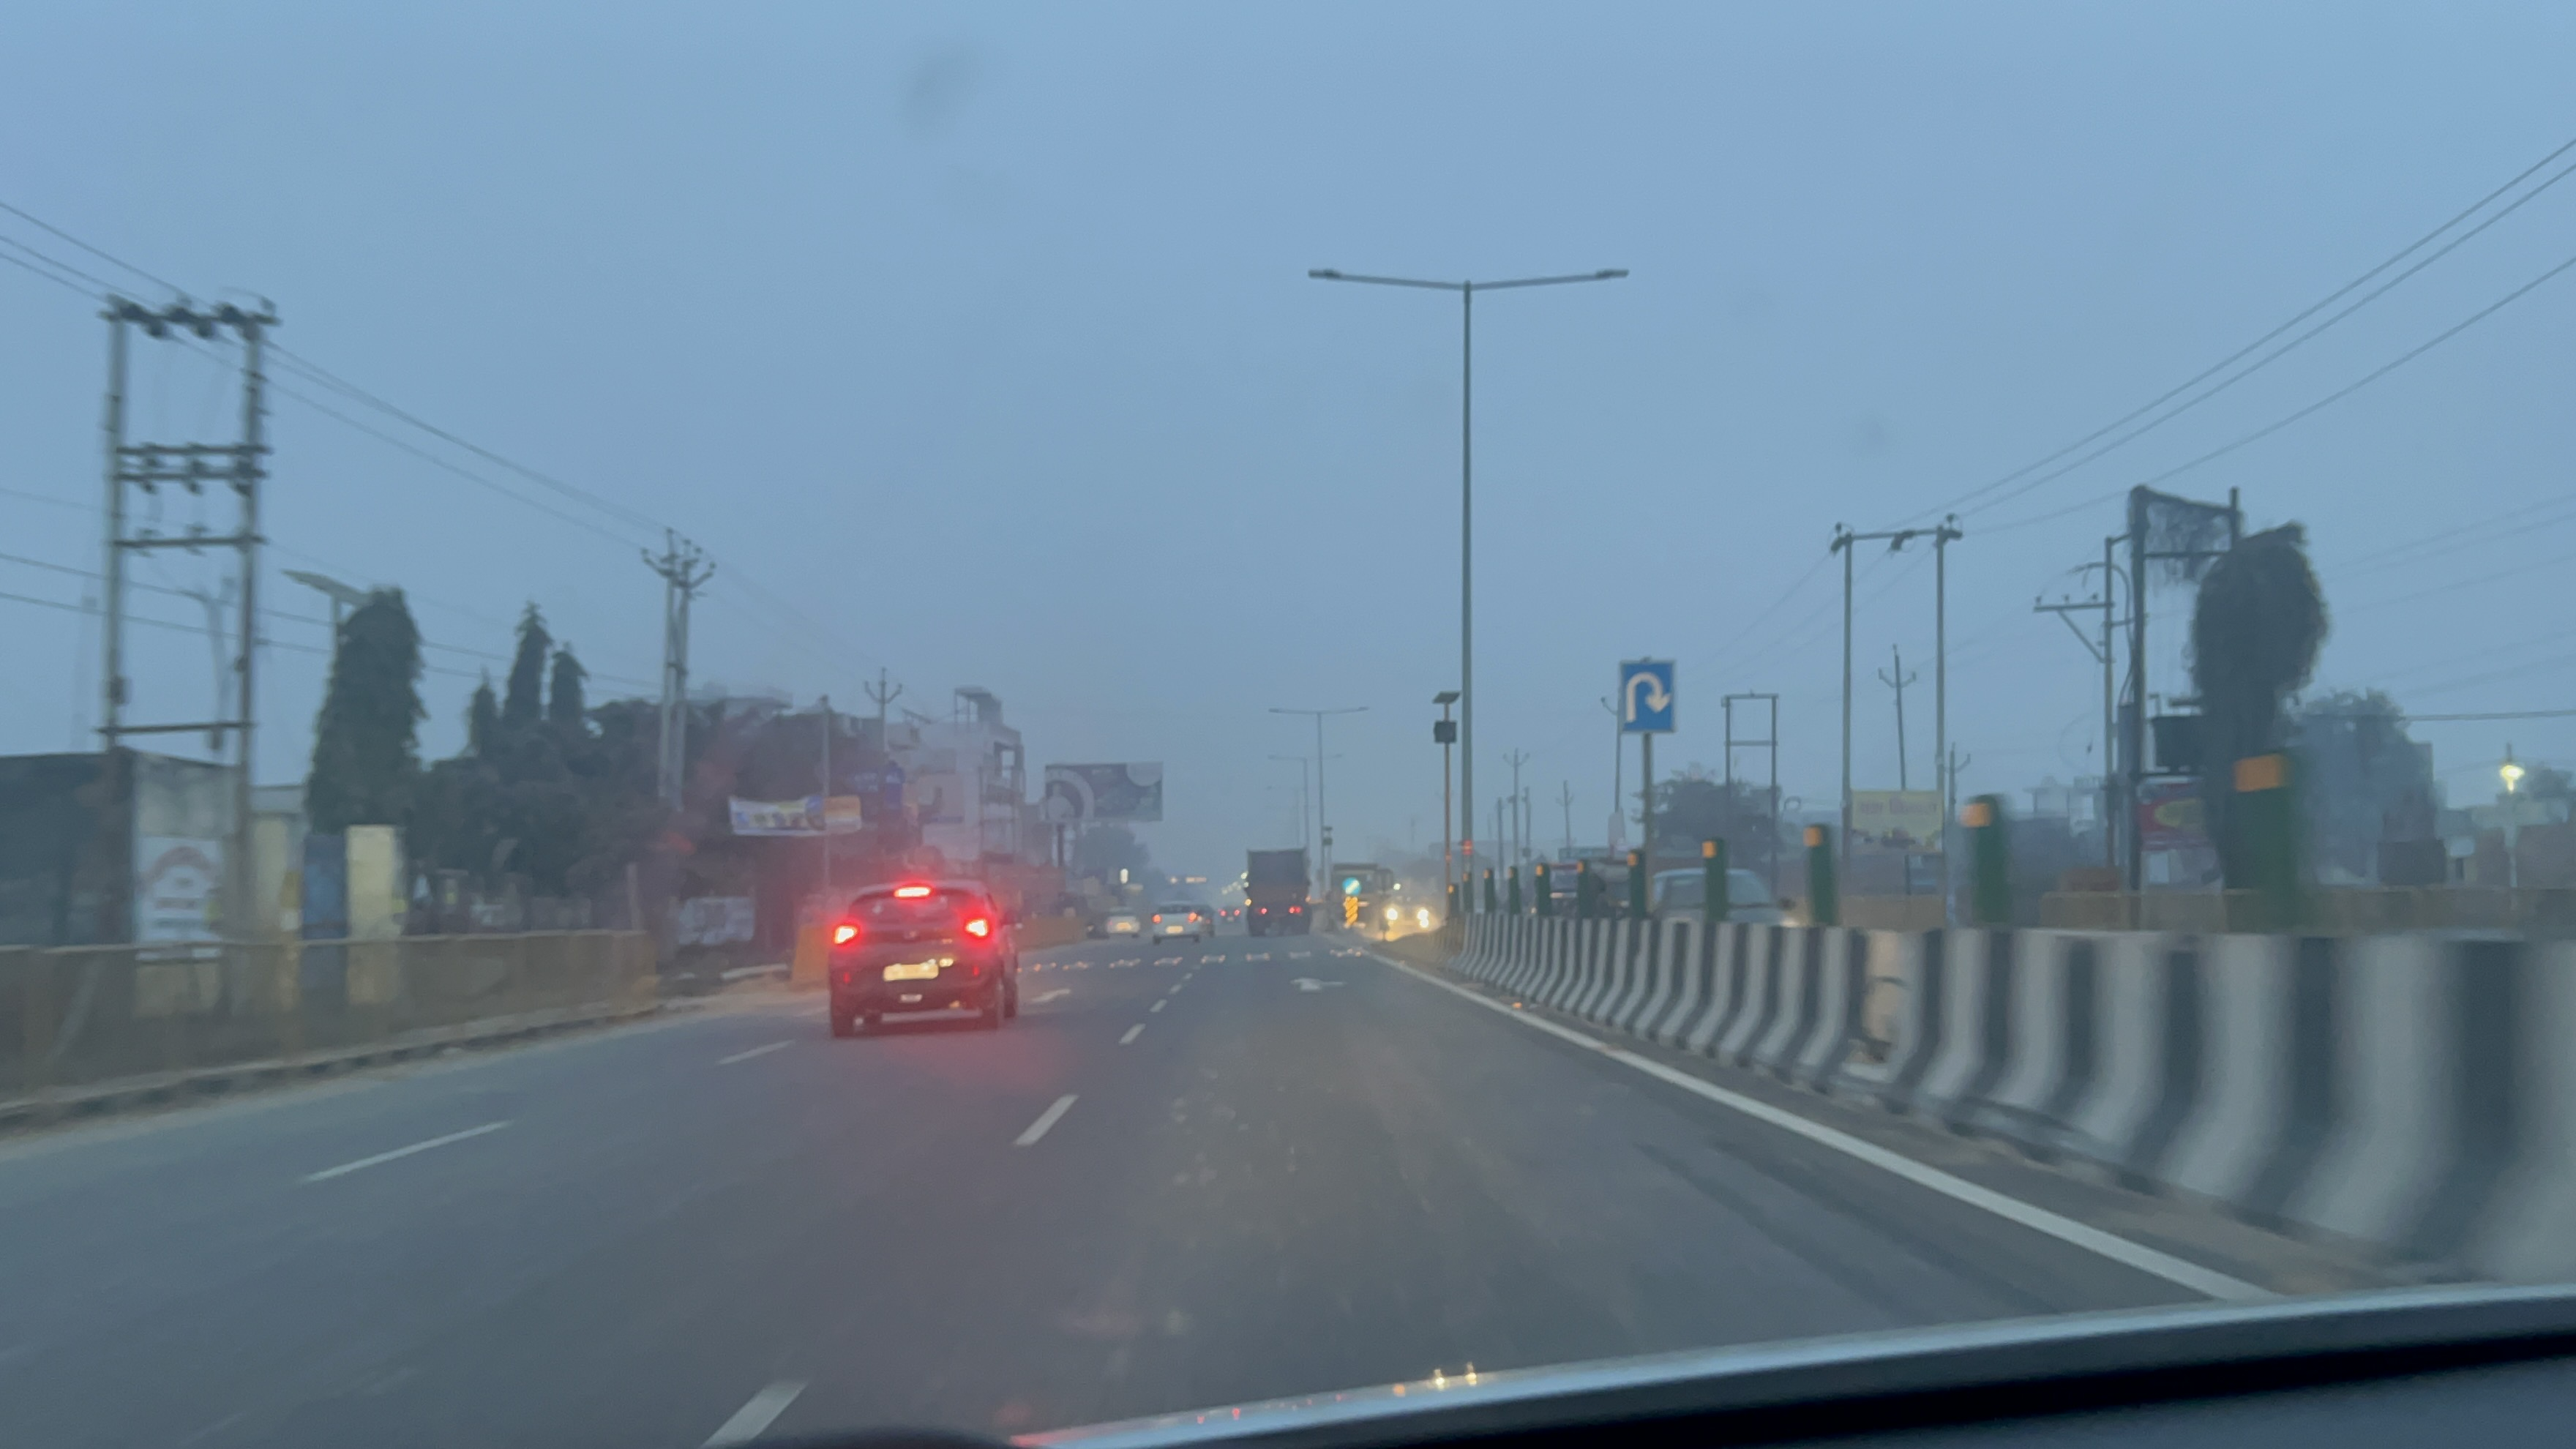Informatory: (1614, 658, 1677, 736)
Regulatory: (1341, 874, 1364, 897)
